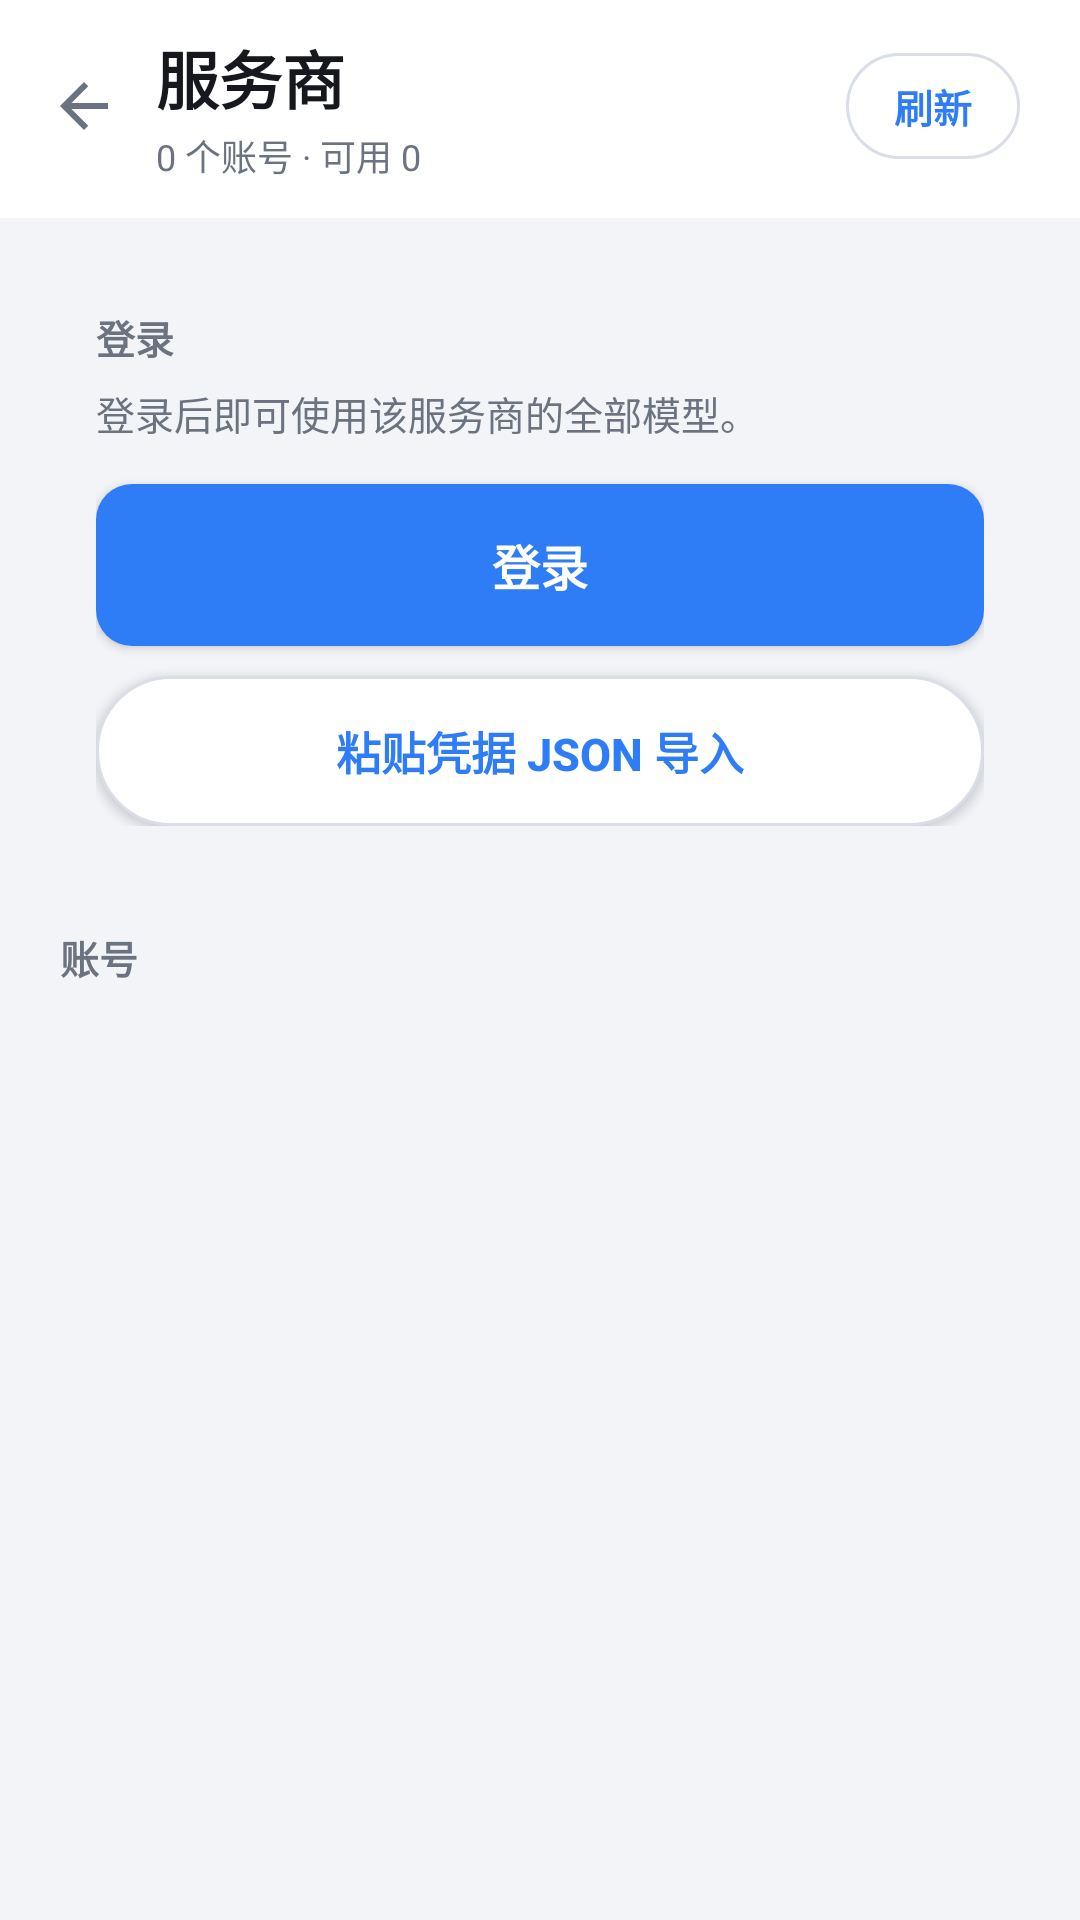

Named icons in this screenshot (1080px x 1920px) and their bounding boxes, (x1, y1, x2, y2):
arrow back: (60, 82, 108, 130)
